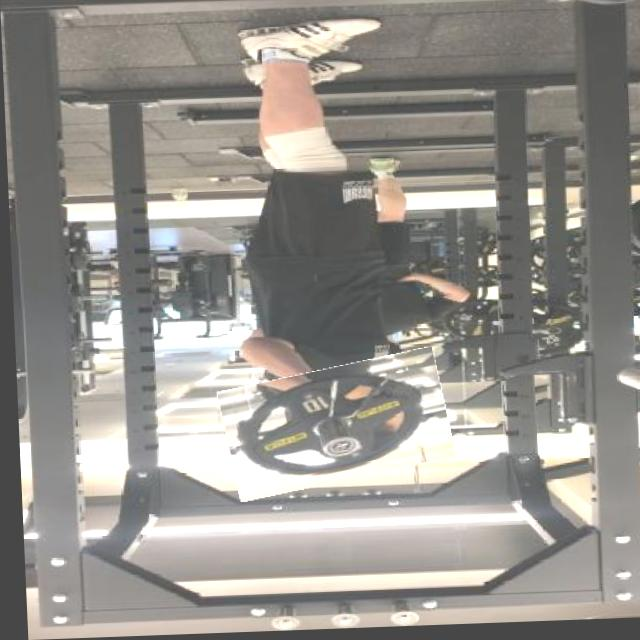barbell: (217, 359, 449, 496)
